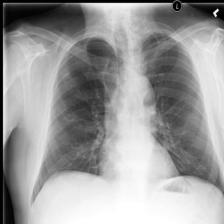normal: (29, 34, 224, 204)
